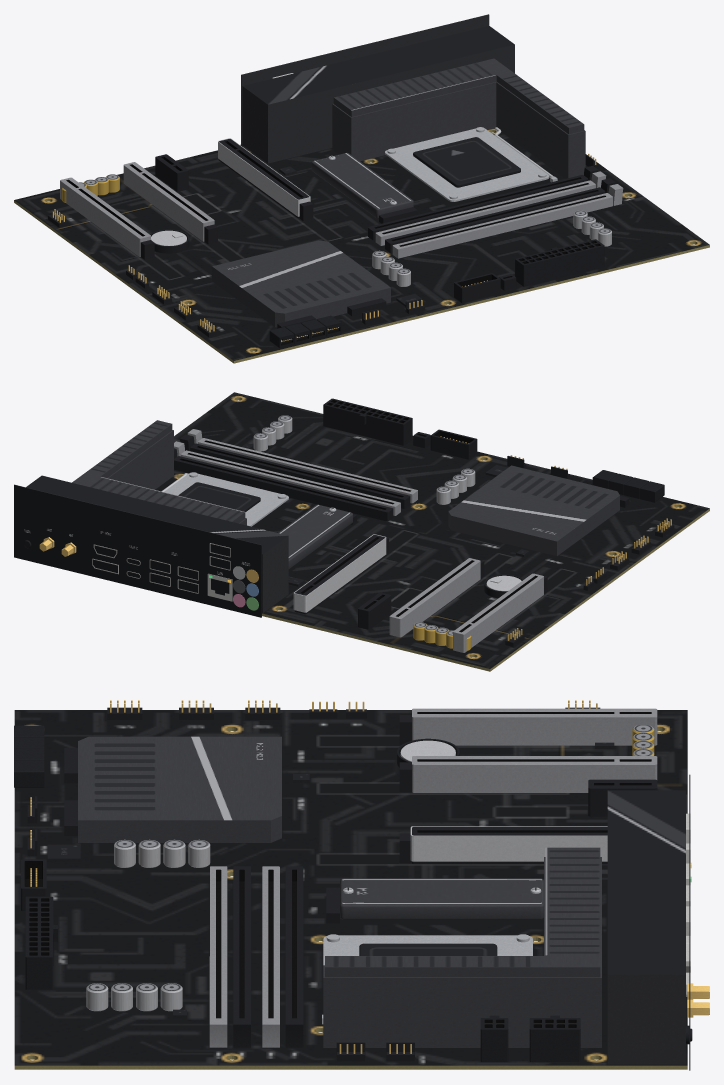
File: atx-motherboard.glb
3 views of the same model, one above another, from view 1: azimuth 30°, elevation 25°; view 2: azimuth 150°, elevation 25°; view 3: azimuth 270°, elevation 25° (orthographic). The views are drawn at different scales.
Visible parts, largest first — view 1: Printed circuit board, VRM heatsink, Rear I/O cover, Chipset and M.2 heatsink, Socket load frame and plate, DIMM slot B2, M.2 heatsink cover, Socket protective cap, Rear I/O shield, PCIe x16 slot 4, PCIe x16 slot 6, Power connectors (24-pin, 8-pin, 4-pin) (+11 smaller); view 2: Printed circuit board, Rear I/O shield, Chipset and M.2 heatsink, VRM heatsink, Rear I/O cover, DIMM slot A1, PCIe x16 slot 4, Power connectors (24-pin, 8-pin, 4-pin), PCIe x16 slot 6, Solid capacitors, Pin header bases, M.2 heatsink cover (+13 smaller); view 3: Printed circuit board, VRM heatsink, Rear I/O cover, Chipset and M.2 heatsink, PCIe x16 slot 6, PCIe x16 slot 4, M.2 heatsink cover, Power connectors (24-pin, 8-pin, 4-pin), Solid capacitors, PCIe slot armour (steel), Pin header bases, DIMM slot A1 (+14 smaller).
Part boxes in pixels (x1,y1,x2,y2): Printed circuit board: (14, 128, 709, 363); VRM heatsink: (332, 58, 585, 178); Rear I/O cover: (242, 26, 514, 163); Chipset and M.2 heatsink: (212, 240, 390, 327); Socket load frame and plate: (385, 127, 549, 201); DIMM slot B2: (392, 184, 623, 258); M.2 heatsink cover: (311, 152, 413, 218); Socket protective cap: (413, 137, 520, 187); Rear I/O shield: (241, 14, 489, 144); PCIe x16 slot 4: (123, 162, 217, 244); PCIe x16 slot 6: (60, 177, 154, 259); Power connectors (24-pin, 8-pin, 4-pin): (515, 239, 604, 286); Printed circuit board: (155, 392, 709, 671); Rear I/O shield: (14, 484, 261, 617); Chipset and M.2 heatsink: (448, 465, 619, 555); VRM heatsink: (72, 420, 246, 525); Rear I/O cover: (26, 475, 288, 612); DIMM slot A1: (174, 448, 393, 521); PCIe x16 slot 4: (389, 558, 484, 637); Power connectors (24-pin, 8-pin, 4-pin): (323, 398, 412, 445); PCIe x16 slot 6: (453, 573, 547, 652); Solid capacitors: (253, 415, 475, 650); Pin header bases: (413, 429, 674, 646); M.2 heatsink cover: (278, 504, 352, 569); Printed circuit board: (14, 710, 687, 1069); VRM heatsink: (323, 847, 601, 1047); Rear I/O cover: (607, 790, 685, 1064); Chipset and M.2 heatsink: (78, 736, 281, 842); PCIe x16 slot 6: (399, 708, 657, 745); PCIe x16 slot 4: (399, 756, 657, 792); M.2 heatsink cover: (340, 878, 543, 919); Power connectors (24-pin, 8-pin, 4-pin): (25, 896, 580, 1061); Solid capacitors: (86, 725, 654, 1011); PCIe slot armour (steel): (410, 826, 607, 861); Pin header bases: (21, 707, 600, 1061); DIMM slot A1: (285, 866, 303, 1047).
Size of the model in its own units: 0.305 by 0.0445 by 0.2523.
Materials: 44 (44 with a texture image).
